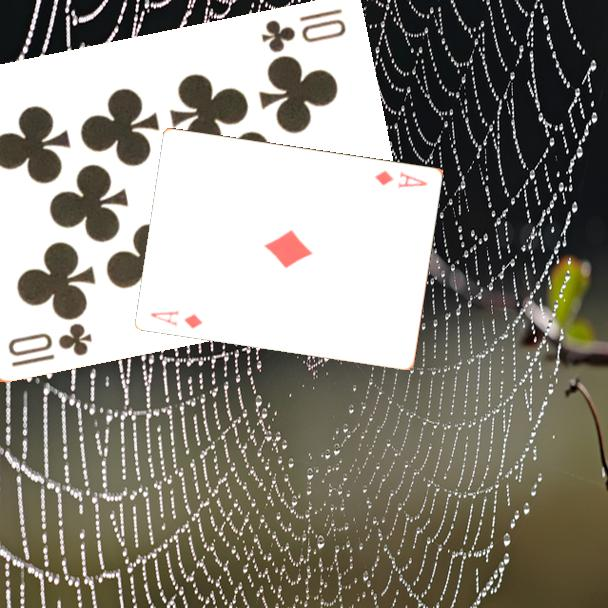c10: (4, 320, 95, 371), (258, 5, 349, 56)
d01: (147, 306, 206, 331), (371, 167, 430, 191)
